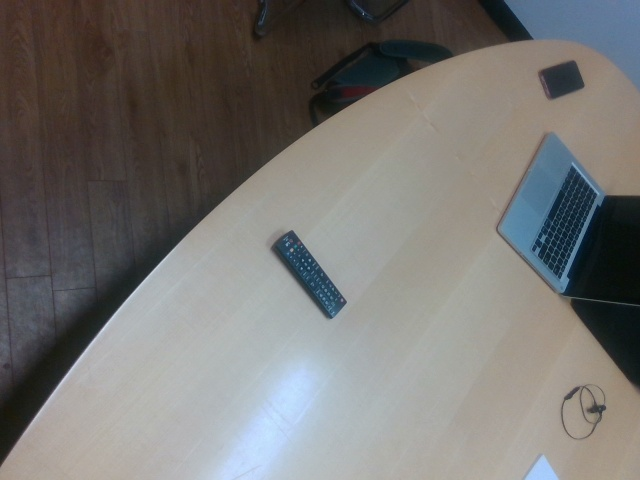remote: (271, 229, 347, 319)
